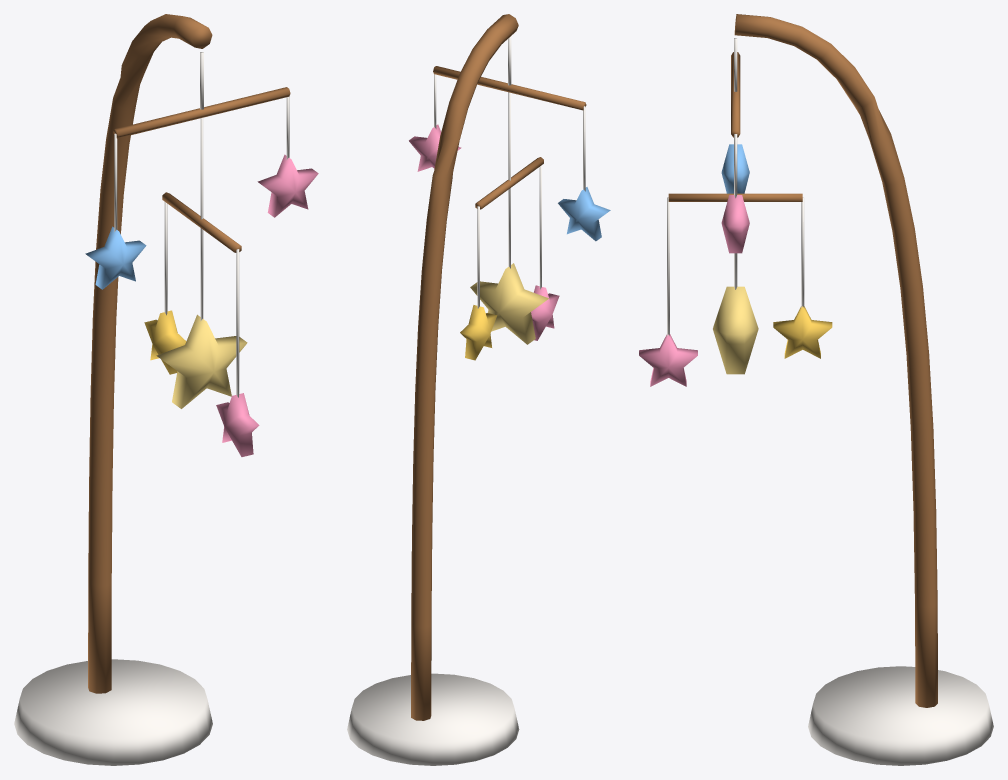
The model's file is star-mobile.glb.
3 renders of one model, left to right at view 1: azimuth 30°, elevation 25°; view 2: azimuth 150°, elevation 25°; view 3: azimuth 270°, elevation 25°, orthographic. The views are drawn at different scales.
Parts seen in each view (by area): view 1: stand; view 2: stand; view 3: stand.
Boxes of the visible parts, x1=… form: stand: x1=14, y1=14, x2=318, y2=765; stand: x1=347, y1=14, x2=610, y2=765; stand: x1=639, y1=14, x2=993, y2=765.
Bounding box in the file's own units: 0.4741 × 1.52 × 0.6871.
